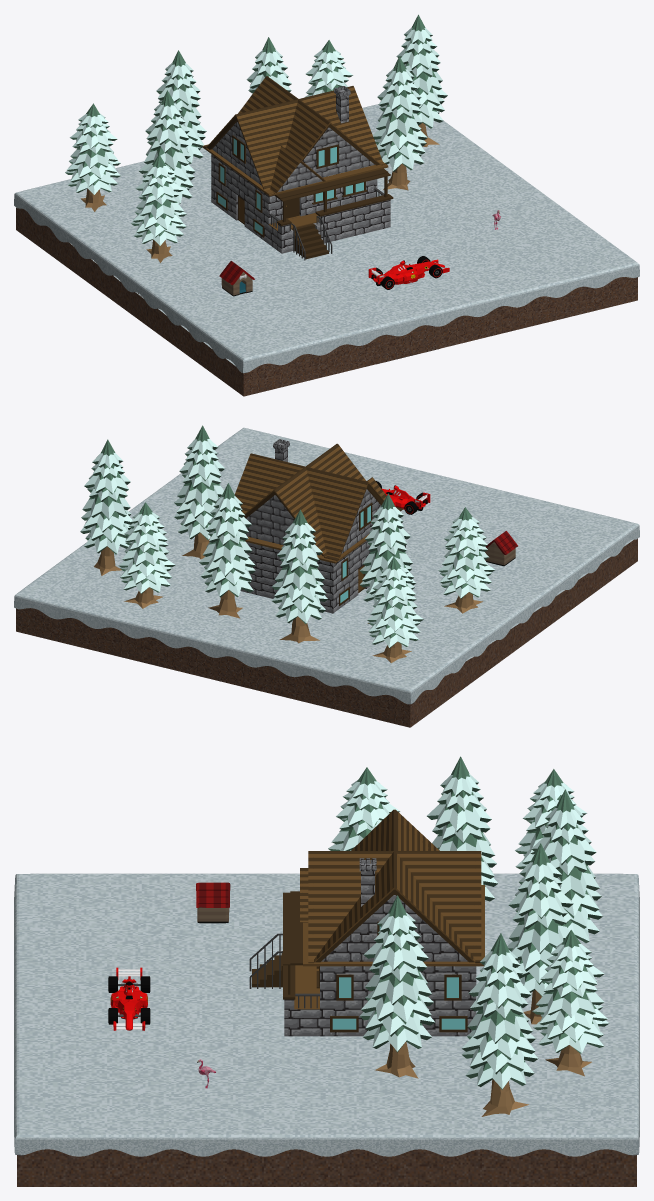
3 renders of one model, top to bottom at view 1: azimuth 30°, elevation 25°; view 2: azimuth 150°, elevation 25°; view 3: azimuth 270°, elevation 25°, orthographic. The views are drawn at different scales.
Visible parts, largest first — view 1: Cube.003, Cube.586, VEHICLES_FORMULA_1, OBJRANDOM_DOGHOUSE; view 2: Cube.003, Cube.586, OBJRANDOM_DOGHOUSE, VEHICLES_FORMULA_1; view 3: Cube.003, Cube.586, VEHICLES_FORMULA_1, OBJRANDOM_DOGHOUSE.
Boxes of the visible parts, x1,y1,x2,y2 form: Cube.003: (14, 14, 639, 396); Cube.586: (202, 76, 393, 260); VEHICLES_FORMULA_1: (368, 256, 449, 289); OBJRANDOM_DOGHOUSE: (219, 261, 254, 296); Cube.003: (14, 425, 639, 727); Cube.586: (234, 439, 405, 613); OBJRANDOM_DOGHOUSE: (485, 531, 517, 566); VEHICLES_FORMULA_1: (376, 481, 430, 514); Cube.003: (14, 756, 639, 1186); Cube.586: (249, 809, 484, 1036); VEHICLES_FORMULA_1: (108, 967, 150, 1030); OBJRANDOM_DOGHOUSE: (196, 882, 230, 923).
Bounding box in the file's own units: 4040 × 1692 × 4040.
Materials: 39 (4 with a texture image).
